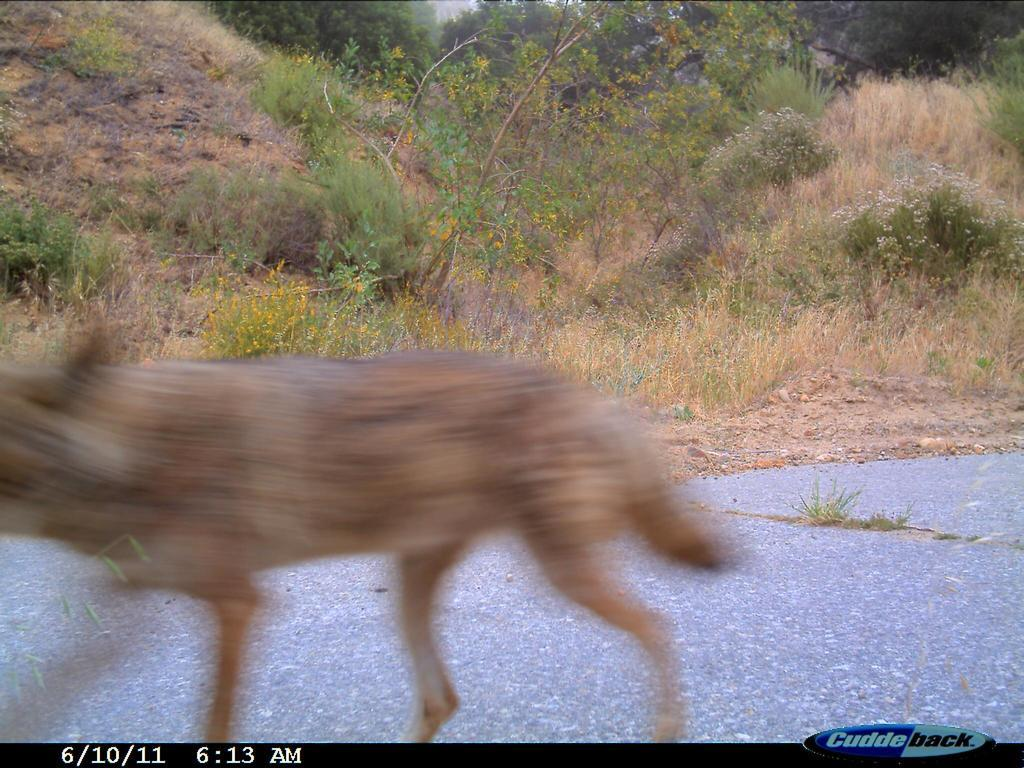coyote: (2, 248, 735, 744)
